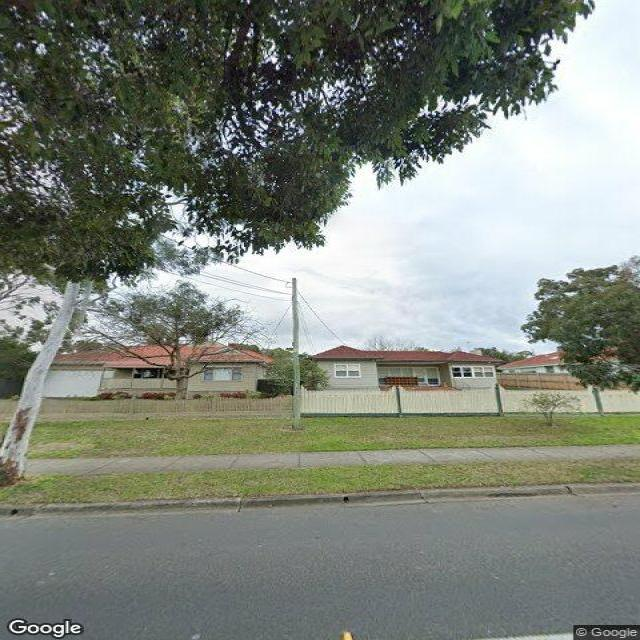timber-pole: (286, 276, 304, 432)
